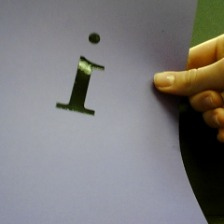violet1: (53, 30, 109, 121)
